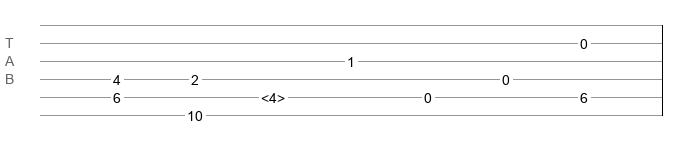0: (424, 90, 432, 100), (502, 72, 510, 82), (580, 36, 588, 46)
1: (347, 54, 355, 64)
10: (187, 108, 203, 118)
2: (191, 72, 199, 82)
4: (113, 72, 121, 82)
6: (113, 90, 121, 100), (580, 90, 588, 100)
harmonic: (261, 90, 285, 100)
